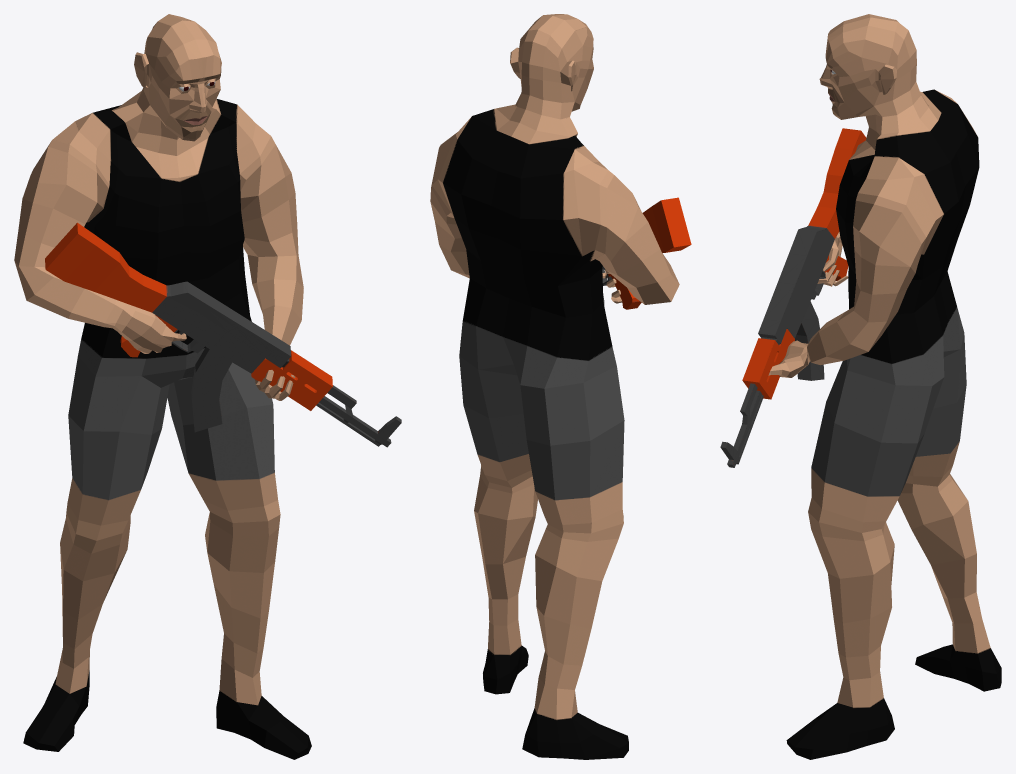
File: PlayerIdle(94).obj
3 views of the same model, side by side, from view 1: azimuth 30°, elevation 25°; view 2: azimuth 150°, elevation 25°; view 3: azimuth 270°, elevation 25° (orthographic). The views are drawn at different scales.
Parts seen in each view (by area): view 1: Plane002, Object001; view 2: Plane002, Object001; view 3: Plane002, Object001.
Boxes of the visible parts, left/top/right/bottom form: Plane002: left=14, top=14, right=311, bottom=759; Object001: left=45, top=222, right=401, bottom=447; Plane002: left=430, top=14, right=679, bottom=759; Object001: left=602, top=197, right=691, bottom=309; Plane002: left=768, top=14, right=1001, bottom=759; Object001: left=720, top=128, right=866, bottom=467.
Size of the model in its own units: 748 by 1803 by 660.
